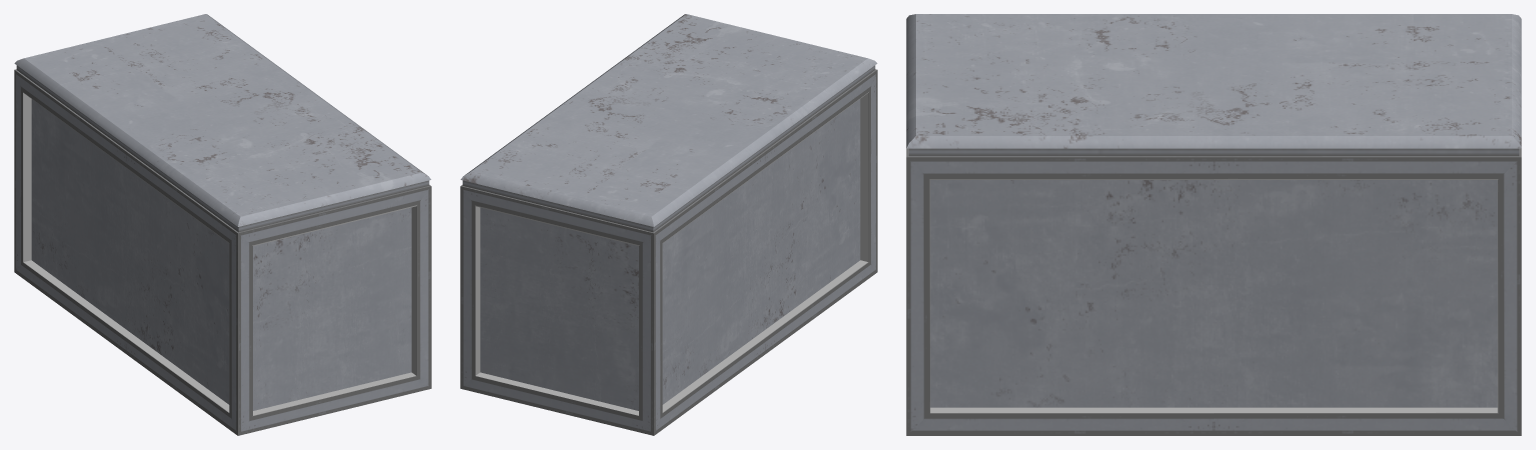
File: Fbx_Props_LabEq_Crate_Long.fbx
3 views of the same model, side by side, from view 1: azimuth 30°, elevation 25°; view 2: azimuth 150°, elevation 25°; view 3: azimuth 270°, elevation 25° (orthographic). The views are drawn at different scales.
Visible parts, largest first — view 1: Basic_Crate_Long; view 2: Basic_Crate_Long; view 3: Basic_Crate_Long.
Part boxes in pixels (x1,y1,x2,y2): Basic_Crate_Long: [14, 14, 431, 435]; Basic_Crate_Long: [460, 14, 877, 435]; Basic_Crate_Long: [906, 14, 1521, 435].
Size of the model in its own units: 100 by 106 by 200.
